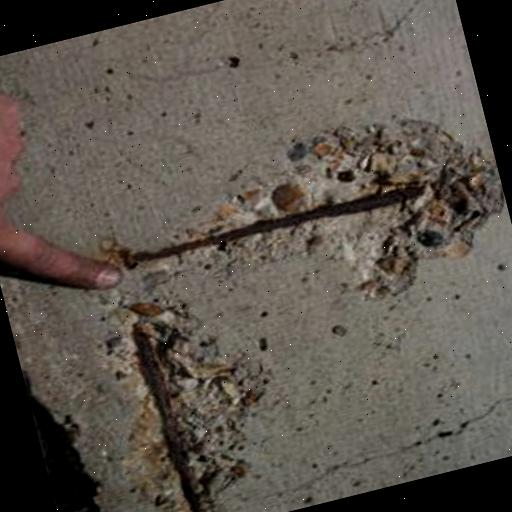spalling: (101, 112, 504, 512)
